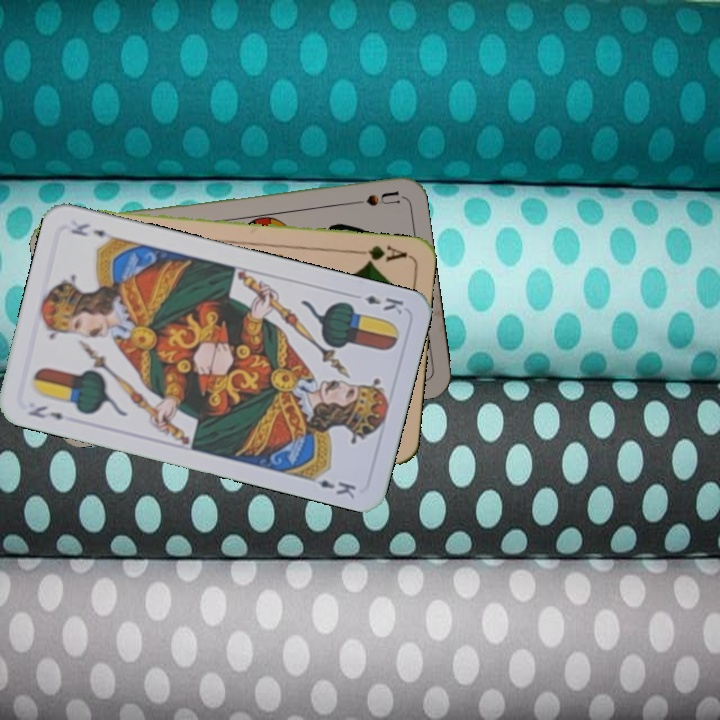EK: (361, 291, 406, 317), (24, 401, 66, 423)
GA: (351, 241, 410, 267)
SU: (342, 187, 401, 209)
